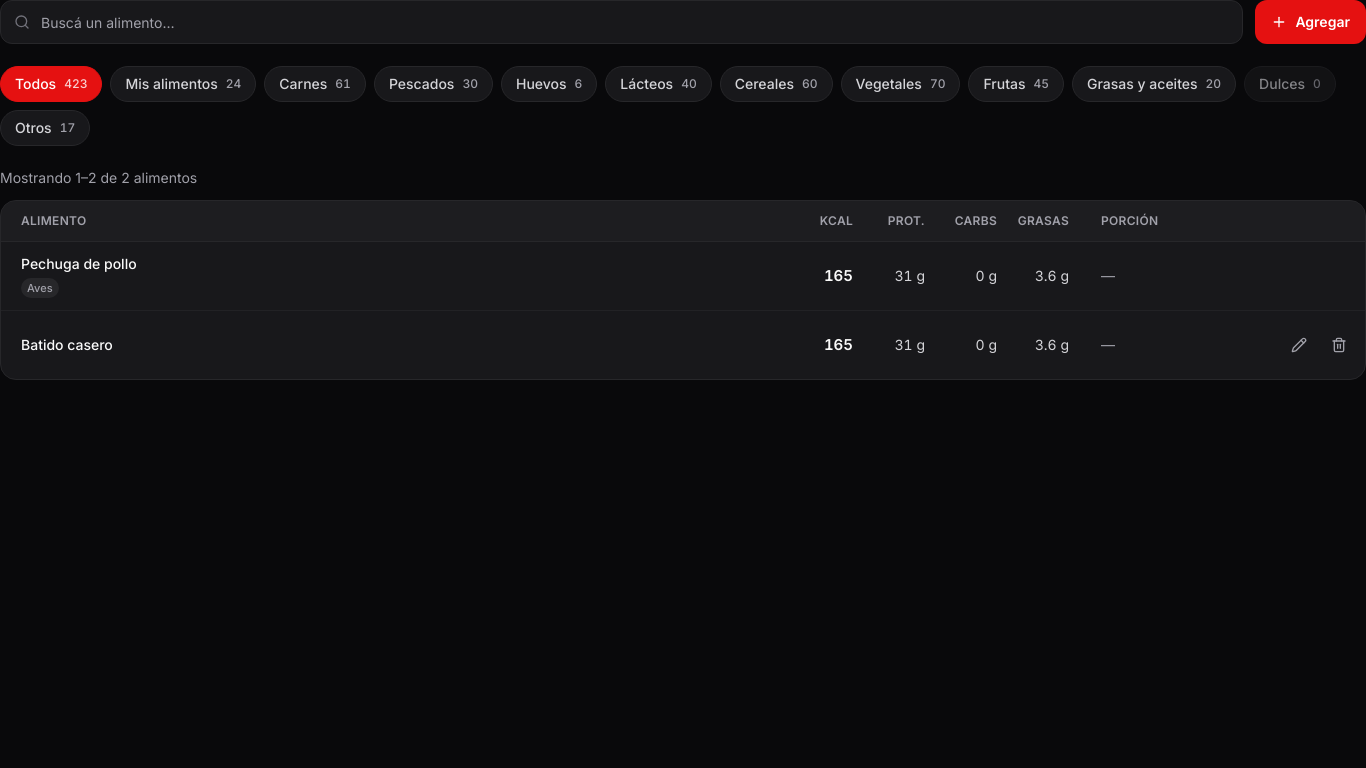
it: food list › detail › closes with the close button
Click the row "Pechuga de pollo Aves 165 31 g 0 g 3.6 g —". click: (683, 276)
box: [1,242,1365,310]
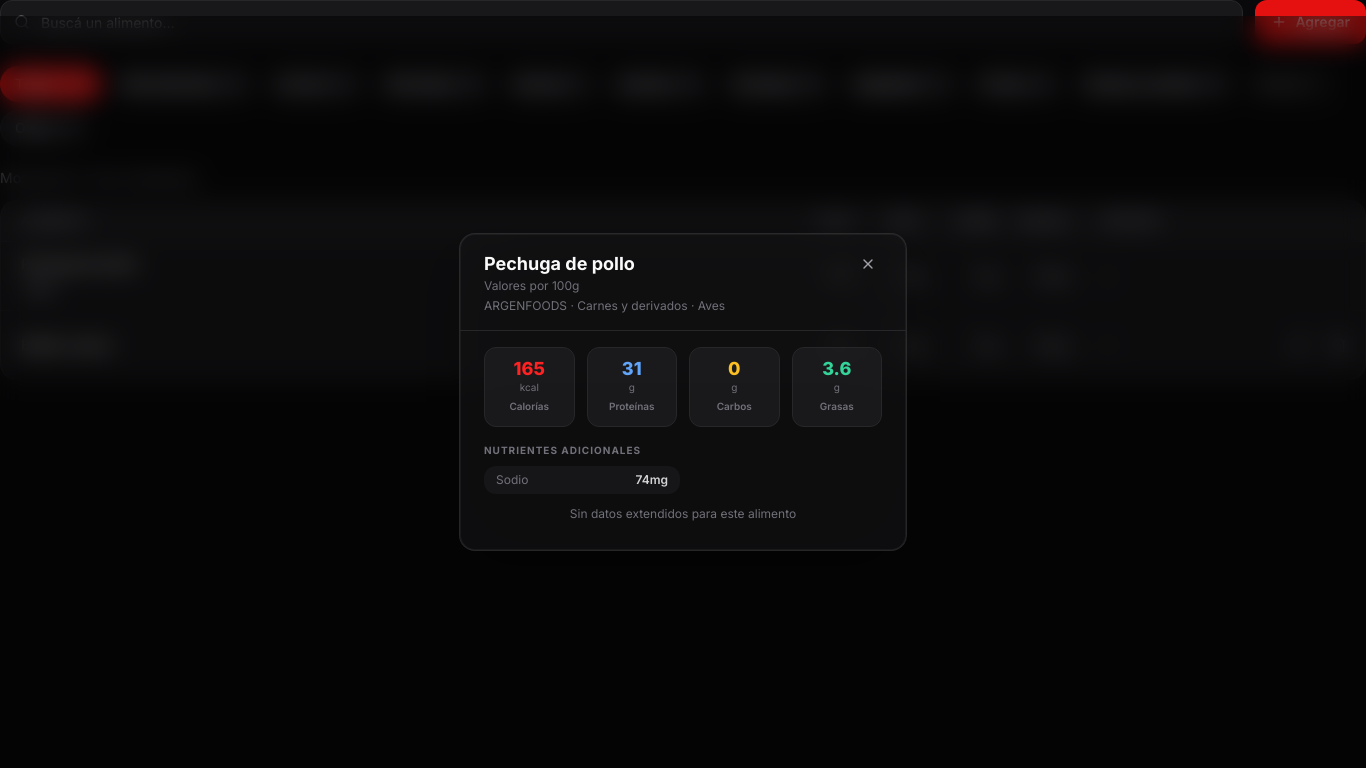
Click the button named "Cerrar". click: (868, 264)
box: [846,242,890,286]
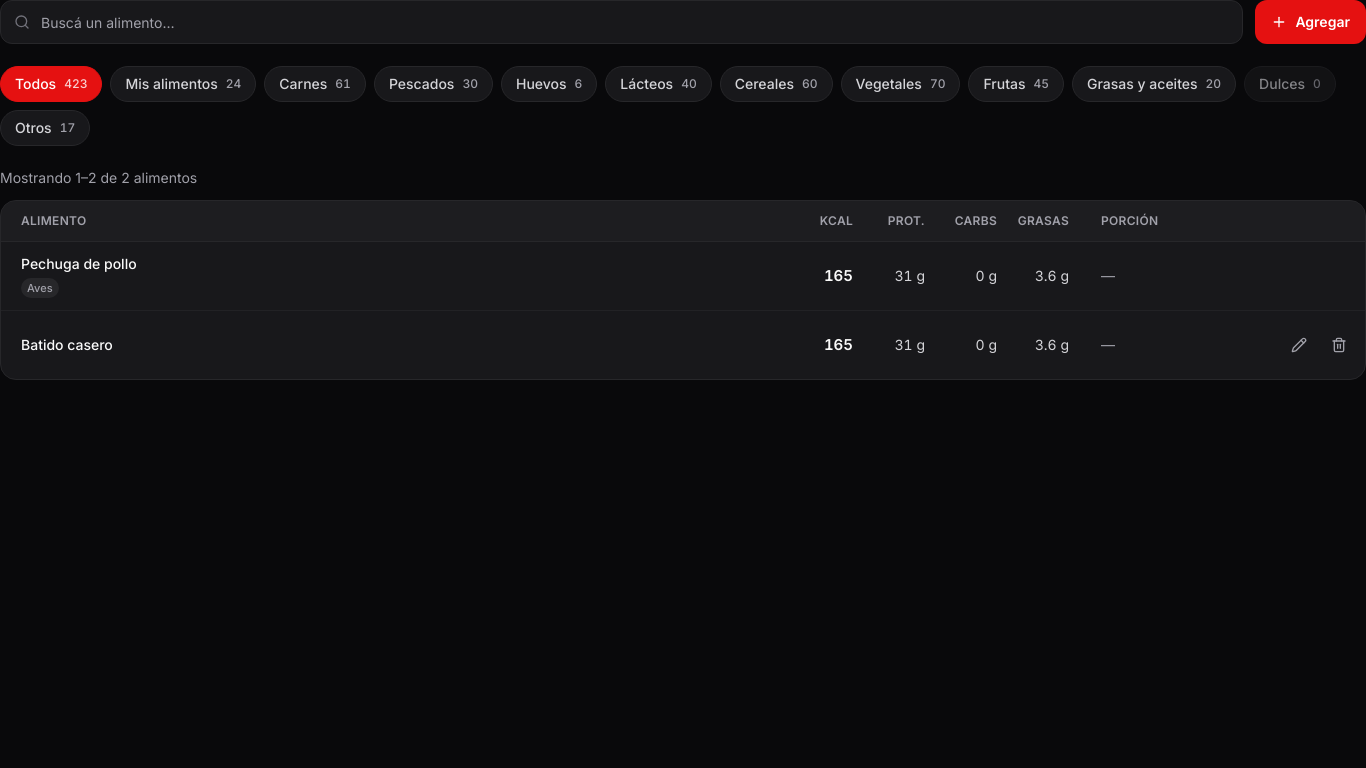
Now the dialog is gone
